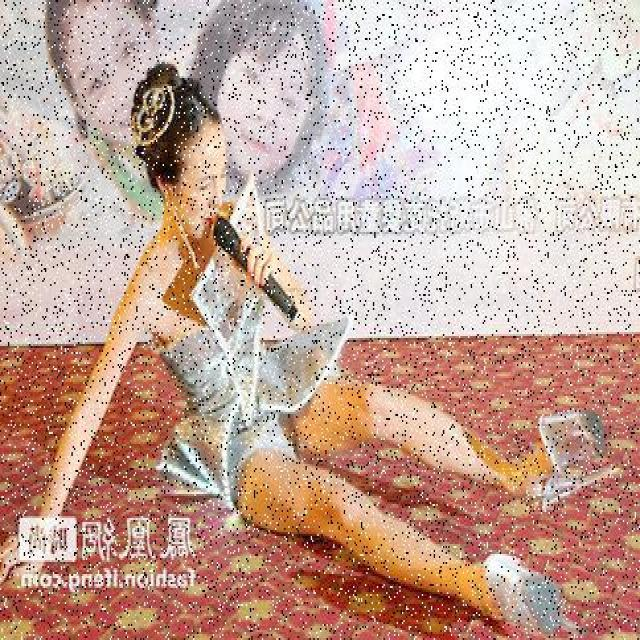fall: (94, 78, 570, 614)
